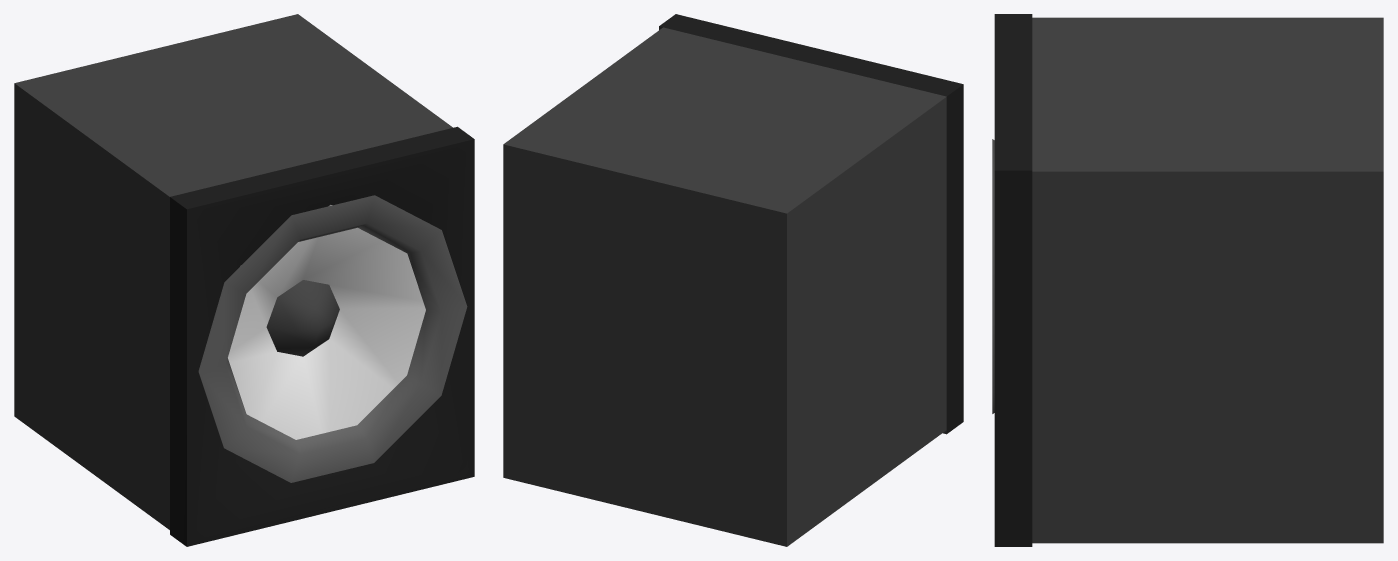
The model's file is musical_instrument_007.glb.
3 renders of one model, left to right at view 1: azimuth 30°, elevation 25°; view 2: azimuth 150°, elevation 25°; view 3: azimuth 270°, elevation 25°, orthographic. The views are drawn at different scales.
Parts seen in each view (by area): view 1: musical_instrument_007; view 2: musical_instrument_007; view 3: musical_instrument_007.
Boxes of the visible parts, x1,y1,x2,y2 form: musical_instrument_007: (14, 14, 474, 546); musical_instrument_007: (503, 14, 963, 546); musical_instrument_007: (992, 14, 1383, 546).
Bounding box in the file's own units: 0.4132 × 0.4633 × 0.4366.
Materials: 1 (1 with a texture image).
